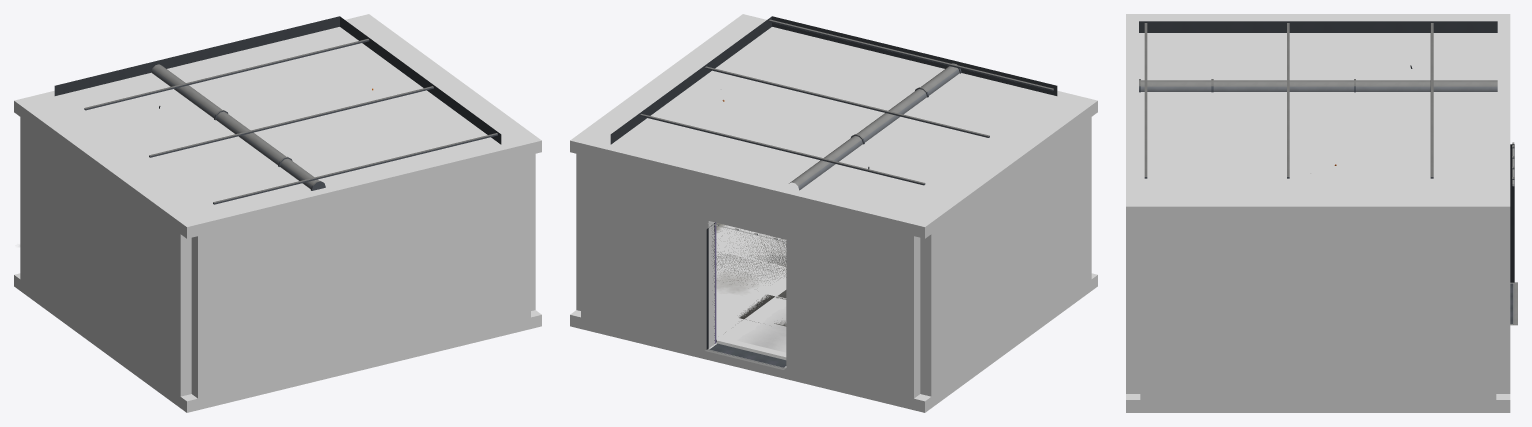
Rendered from int_signals.glb.
3 views of the same model, side by side, from view 1: azimuth 30°, elevation 25°; view 2: azimuth 150°, elevation 25°; view 3: azimuth 270°, elevation 25° (orthographic). The views are drawn at different scales.
Parts seen in each view (by area): view 1: col_walls_signals, shell_signals, col_floor_signals; view 2: col_walls_signals, col_floor_signals, shell_signals; view 3: col_walls_signals, shell_signals, col_floor_signals.
Part boxes in pixels (<box>): col_walls_signals: <box>14,14,541,398</box>; shell_signals: <box>54,16,501,204</box>; col_floor_signals: <box>14,273,541,412</box>; col_walls_signals: <box>570,14,1097,398</box>; col_floor_signals: <box>570,223,1097,412</box>; shell_signals: <box>610,16,1057,369</box>; col_walls_signals: <box>1126,14,1510,399</box>; shell_signals: <box>1139,21,1517,325</box>; col_floor_signals: <box>1126,394,1510,412</box>.
Size of the model in its own units: 6.5 by 3.38 by 5.51.
Materials: 13 (9 with a texture image).
